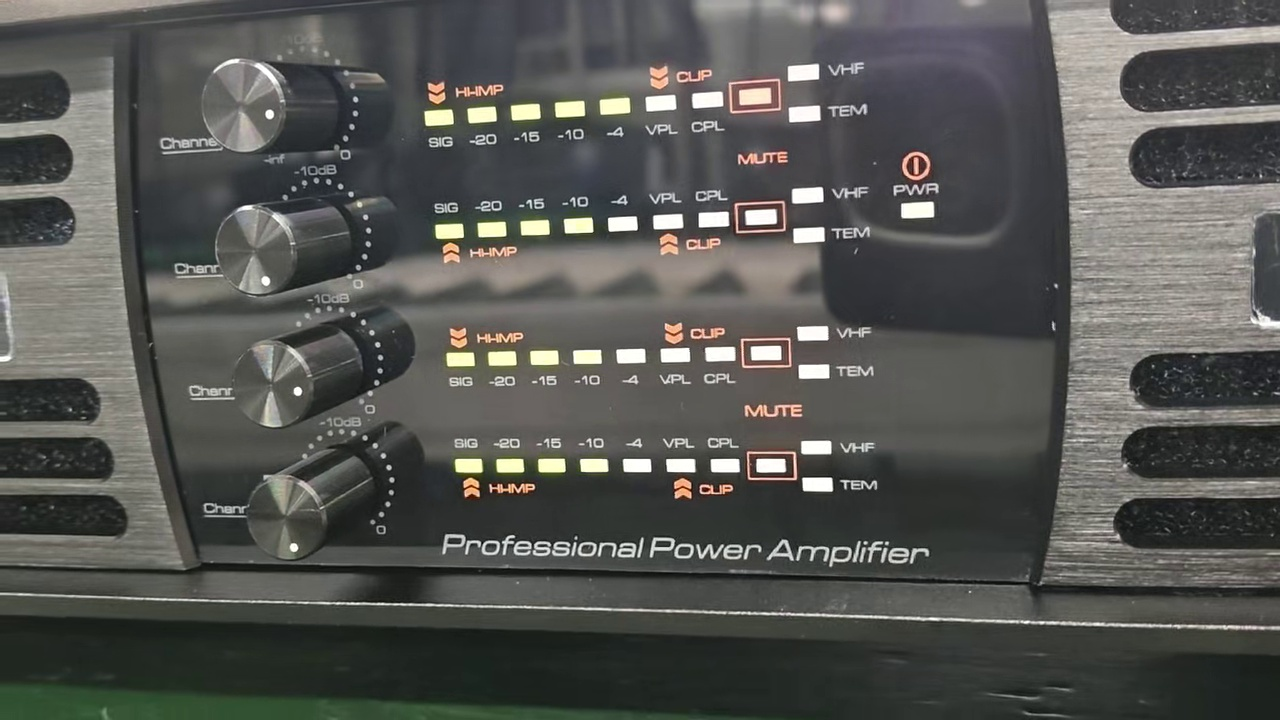FP_CPL: (687, 81, 730, 142), (701, 341, 740, 393), (694, 183, 733, 235), (704, 429, 742, 477)
FP_PWR: (889, 179, 945, 223)
FP_PWR_area: (888, 143, 946, 229)
FP_SIG_area: (416, 58, 877, 154), (431, 183, 876, 268), (441, 317, 877, 392), (449, 429, 882, 502)
FP_VPL: (654, 340, 694, 389), (647, 183, 685, 234), (644, 89, 680, 142), (662, 429, 699, 479)
